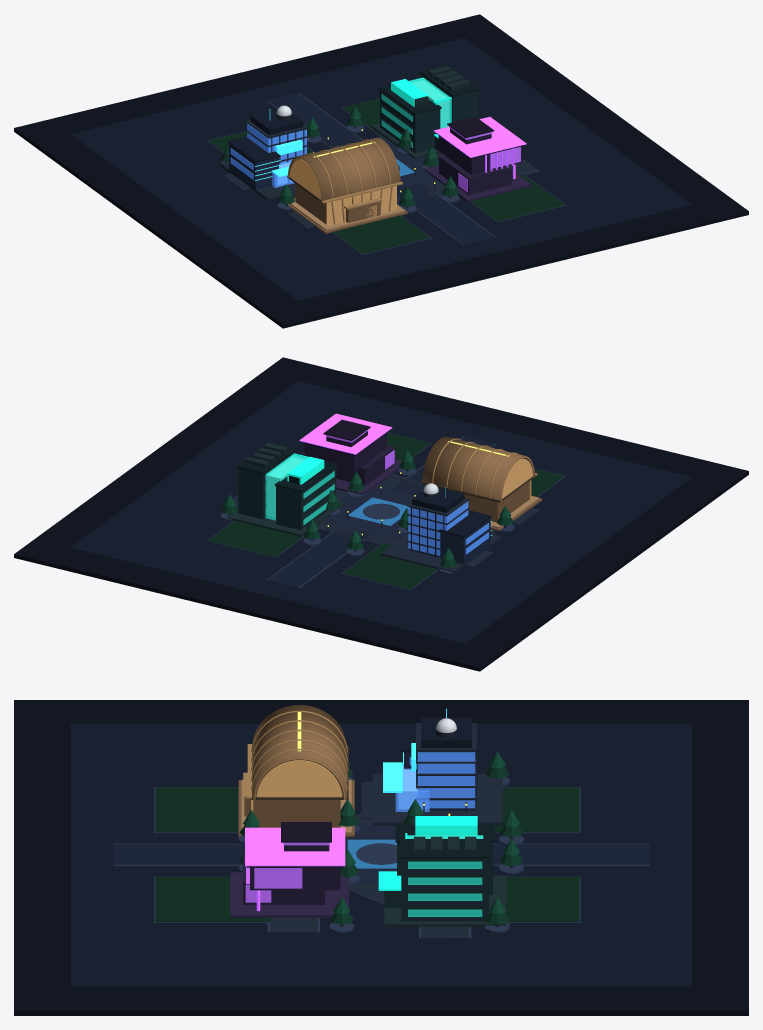
Rendered from campus_full.glb.
The picture shows the model from 3 angles, top to bottom: view 1: azimuth 30°, elevation 25°; view 2: azimuth 150°, elevation 25°; view 3: azimuth 270°, elevation 25°; orthographic projection. The views are drawn at different scales.
Visible parts, largest first — view 1: Terrain_CampusPlinth, Terrain_SubBase_Outer, CCC_BarrelVault_Shell, Road_NorthSouth_Promenade, Lawn_SouthWest, HEC_WestWing, Lawn_SouthEast, IC_LowerGallery, IC_LayeredRoofSlab_2, TSC_ResearchWing, IC_CantileverVolume, CCC_CurvedFacadeGlass (+15 smaller); view 2: Terrain_CampusPlinth, Terrain_SubBase_Outer, CCC_BarrelVault_Shell, Road_NorthSouth_Promenade, HEC_WestWing, Lawn_NorthWest, Plaza_Outer, Lawn_NorthEast, TSC_MainTower_GlassFacets, HEC_EastWing, IC_LayeredRoofSlab_2, TSC_ResearchWing (+18 smaller); view 3: Terrain_CampusPlinth, Terrain_SubBase_Outer, Road_NorthSouth_Promenade, HEC_EastWing, CCC_BarrelVault_Shell, Lawn_SouthWest, Lawn_SouthEast, Lawn_NorthWest, Lawn_NorthEast, IC_LayeredRoofSlab_2, TSC_MainTower_GlassFacets, TSC_EntrancePodium (+27 smaller).
Part boxes in pixels (x1=…): Terrain_CampusPlinth: x1=70, y1=38, x2=692, y2=300; Terrain_SubBase_Outer: x1=14, y1=14, x2=748, y2=328; CCC_BarrelVault_Shell: x1=288, y1=137, x2=400, y2=200; Road_NorthSouth_Promenade: x1=268, y1=93, x2=494, y2=244; Lawn_SouthWest: x1=333, y1=215, x2=430, y2=254; HEC_WestWing: x1=380, y1=90, x2=440, y2=153; Lawn_SouthEast: x1=470, y1=174, x2=564, y2=221; IC_LowerGallery: x1=439, y1=155, x2=511, y2=194; IC_LayeredRoofSlab_2: x1=433, y1=117, x2=526, y2=157; TSC_ResearchWing: x1=229, y1=143, x2=278, y2=189; IC_CantileverVolume: x1=438, y1=135, x2=521, y2=174; CCC_CurvedFacadeGlass: x1=326, y1=186, x2=396, y2=225; Terrain_CampusPlinth: x1=70, y1=381, x2=692, y2=643; Terrain_SubBase_Outer: x1=14, y1=357, x2=748, y2=671; CCC_BarrelVault_Shell: x1=422, y1=436, x2=534, y2=500; Road_NorthSouth_Promenade: x1=268, y1=436, x2=494, y2=587; HEC_WestWing: x1=276, y1=467, x2=336, y2=530; Lawn_NorthWest: x1=343, y1=543, x2=437, y2=589; Plaza_Outer: x1=322, y1=486, x2=414, y2=540; Lawn_NorthEast: x1=208, y1=520, x2=304, y2=556; TSC_MainTower_GlassFacets: x1=408, y1=501, x2=468, y2=555; HEC_EastWing: x1=238, y1=451, x2=295, y2=519; IC_LayeredRoofSlab_2: x1=299, y1=413, x2=392, y2=454; TSC_ResearchWing: x1=440, y1=518, x2=490, y2=564; Terrain_CampusPlinth: x1=70, y1=723, x2=692, y2=986; Terrain_SubBase_Outer: x1=14, y1=700, x2=748, y2=1015; Road_NorthSouth_Promenade: x1=113, y1=844, x2=649, y2=864; HEC_EastWing: x1=401, y1=858, x2=488, y2=921; CCC_BarrelVault_Shell: x1=252, y1=705, x2=346, y2=799; Lawn_SouthWest: x1=155, y1=787, x2=238, y2=832; Lawn_SouthEast: x1=155, y1=877, x2=269, y2=921; Lawn_NorthWest: x1=494, y1=787, x2=579, y2=832; Lawn_NorthEast: x1=506, y1=877, x2=579, y2=921; IC_LayeredRoofSlab_2: x1=245, y1=827, x2=345, y2=866; TSC_MainTower_GlassFacets: x1=417, y1=752, x2=475, y2=808; TSC_EntrancePodium: x1=373, y1=773, x2=502, y2=825.
Size of the model in its own units: 52 by 7.27 by 52.
